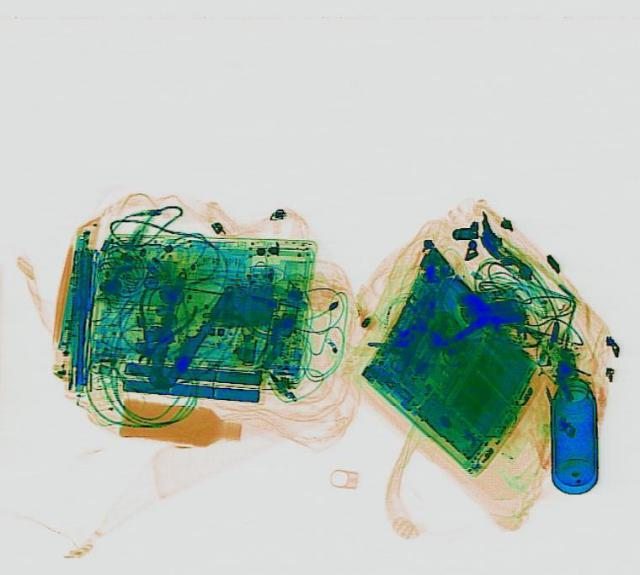Pliers: (125, 268, 237, 397)
